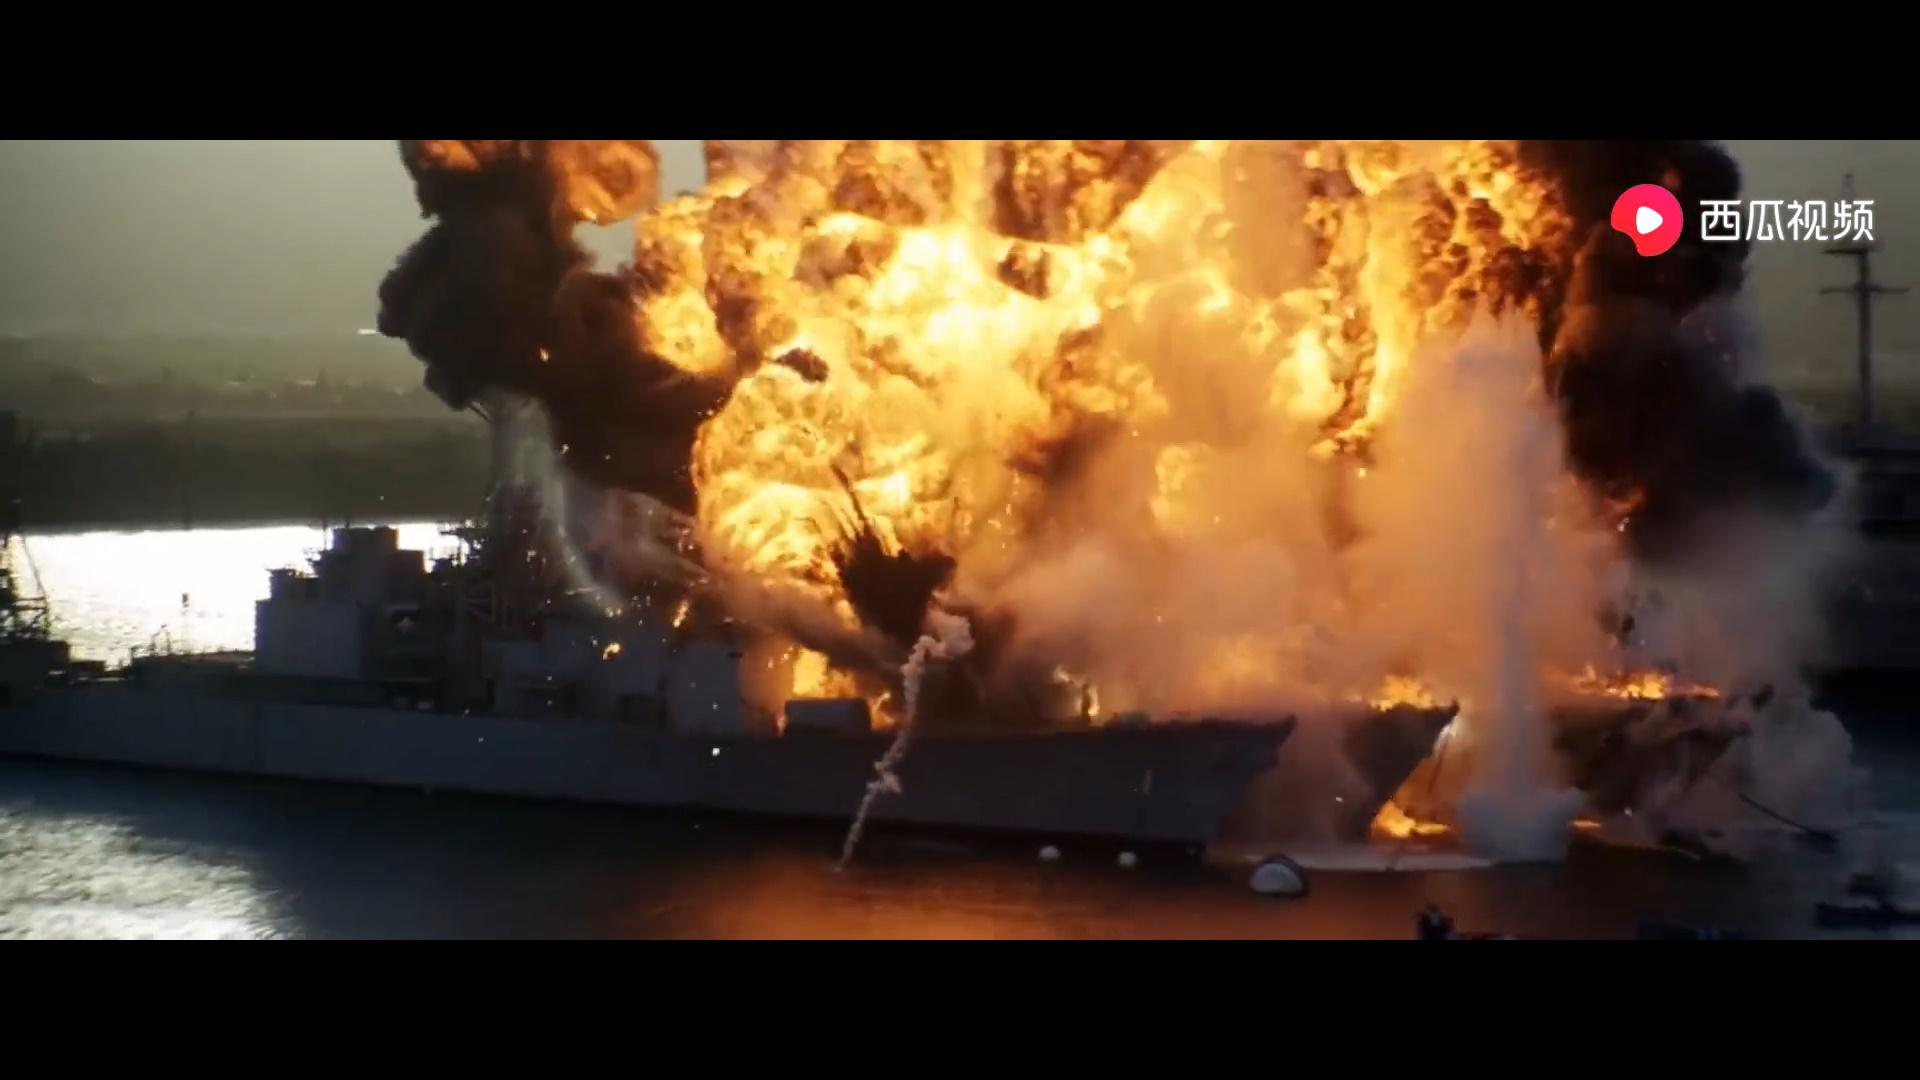fire: (355, 133, 1743, 886)
